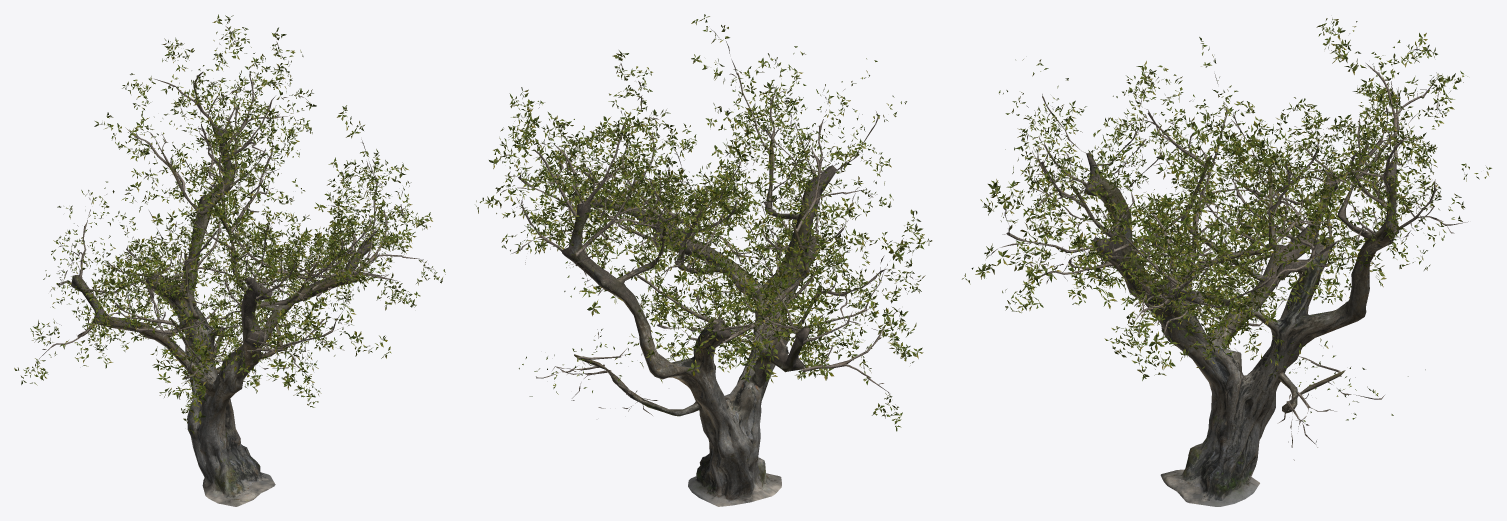
The model's file is island_tree_01.glb.
The picture shows the model from 3 angles, left to right: view 1: azimuth 30°, elevation 25°; view 2: azimuth 150°, elevation 25°; view 3: azimuth 270°, elevation 25°; orthographic projection. The views are drawn at different scales.
Parts seen in each view (by area): view 1: island_tree_01_LOD0; view 2: island_tree_01_LOD0; view 3: island_tree_01_LOD0.
Part boxes in pixels (x1,y1,x2,y2): island_tree_01_LOD0: (14,14,445,506); island_tree_01_LOD0: (476,14,932,506); island_tree_01_LOD0: (962,18,1491,506).
Bounding box in the file's own units: 4.73 × 4.99 × 4.81.
3 materials, 3 textured.
